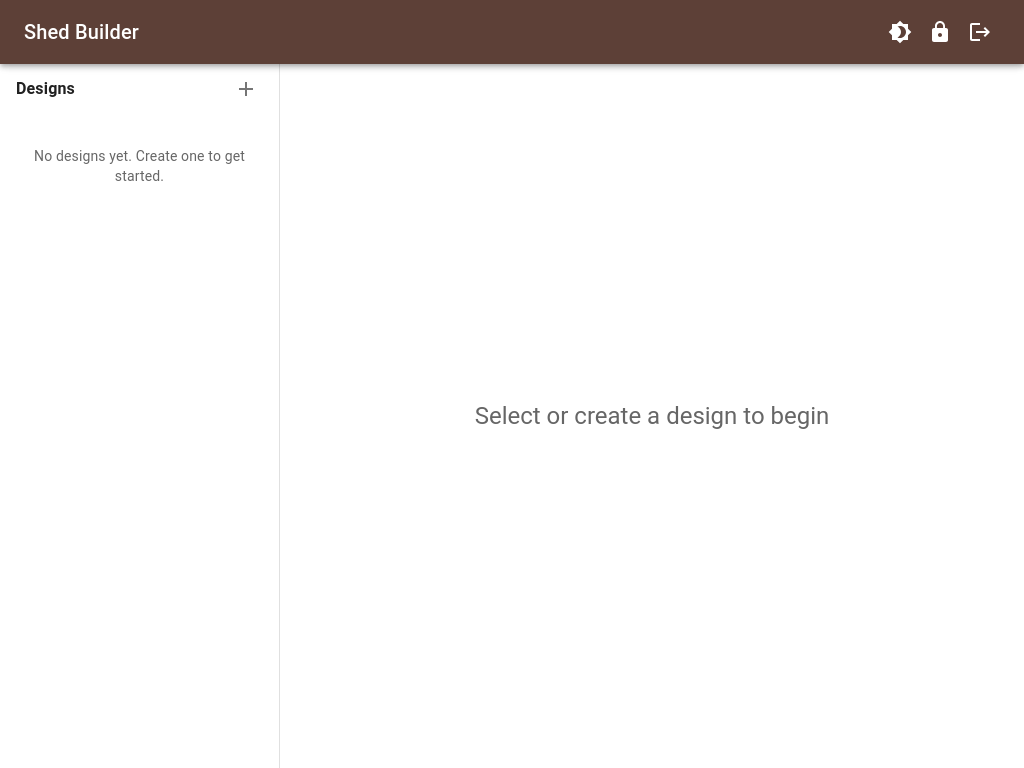
Scenario: App › changes password successfully
The image size is (1024, 768).
Click the button named "Change password" at (940, 32), box [920,12,960,52]
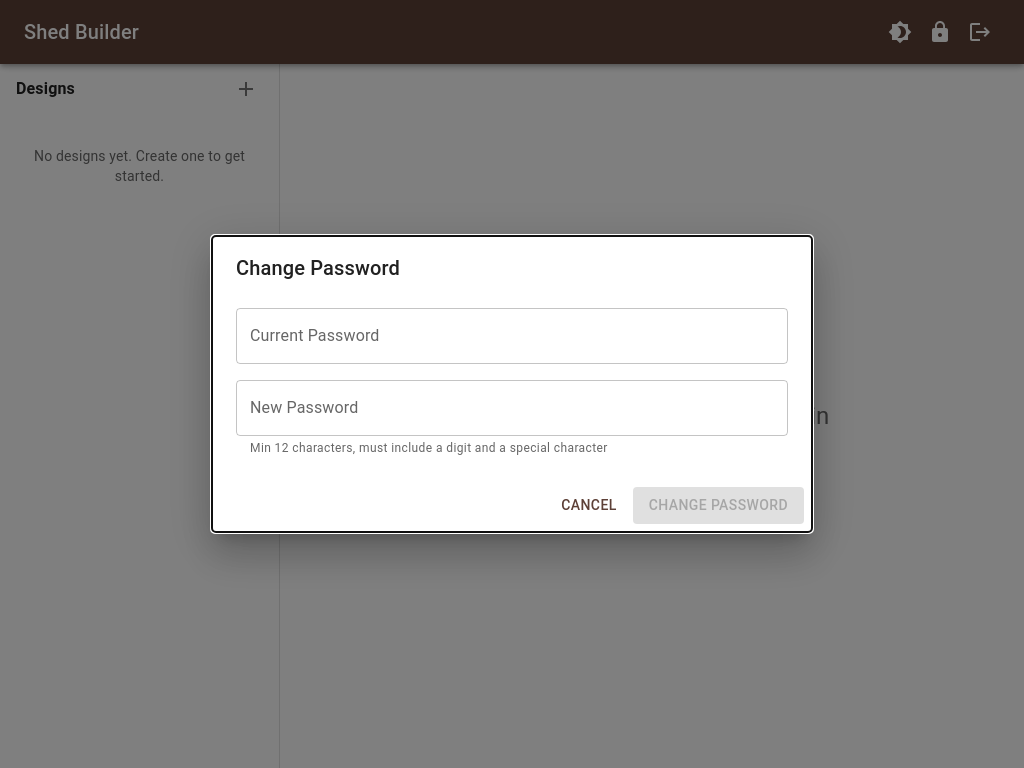
Type "OldPass123!@" into the password field labelled "Current Password" at (512, 336), box [236,308,788,364]
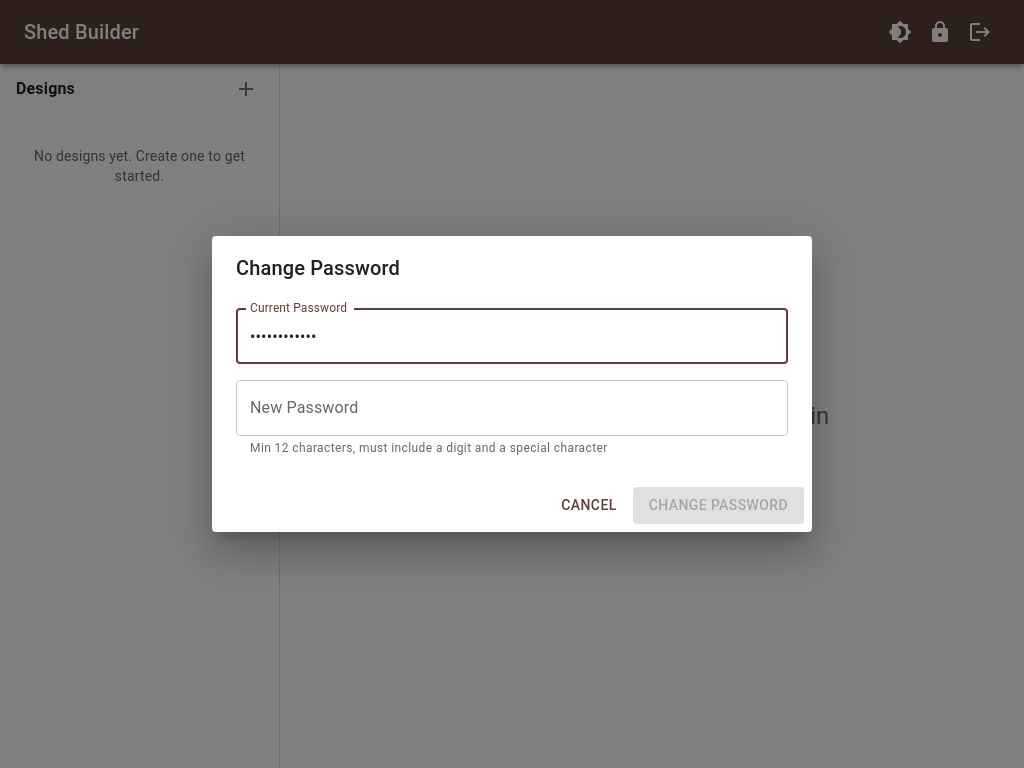
Type "NewPass456!@" into the password field labelled "New Password" at (512, 408), box [236,380,788,436]
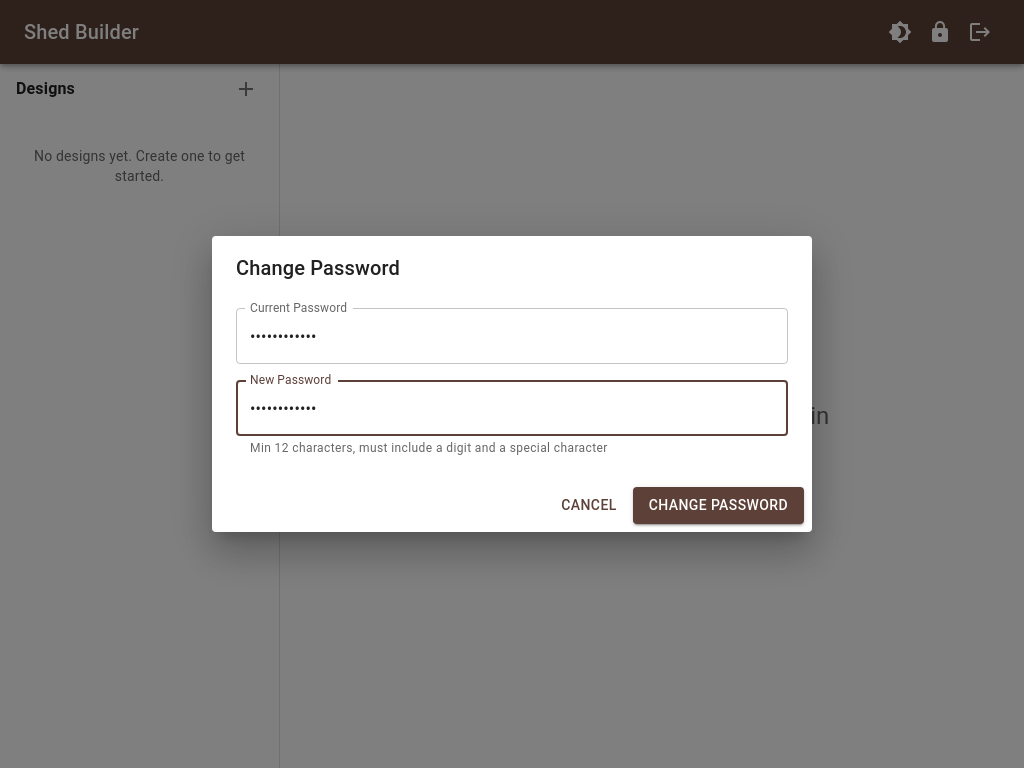
Click the button "Change Password" at (718, 505), box [633,487,804,524]
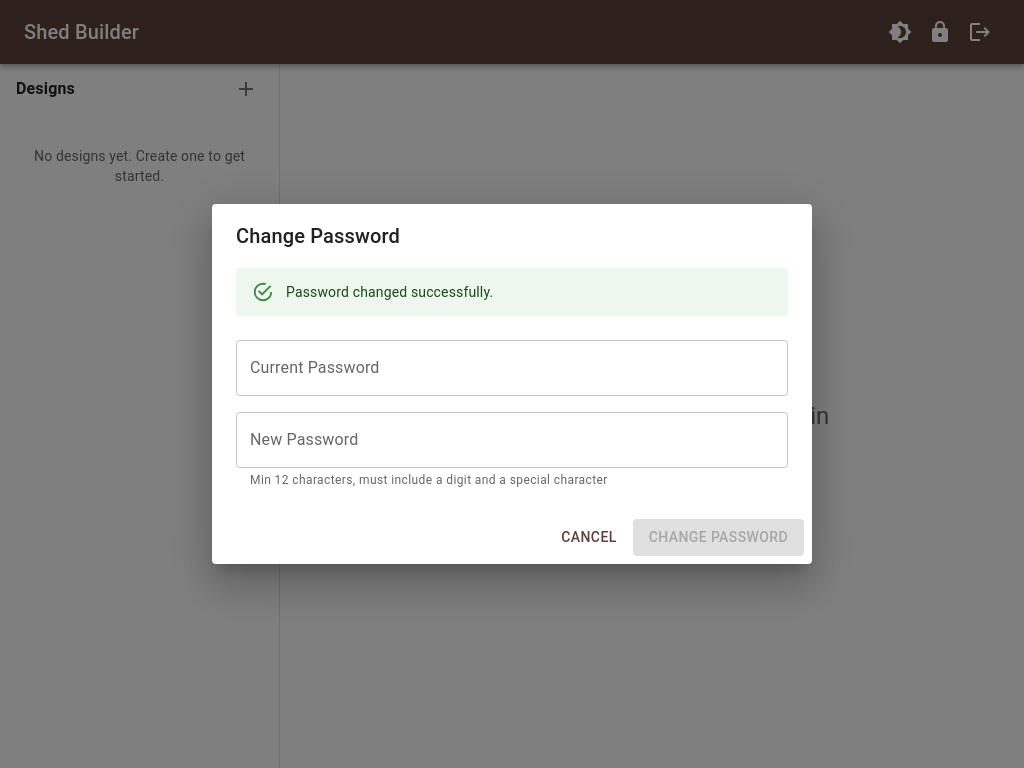
Expected: the text "Password changed successfully." is shown, [286,284,493,300]
